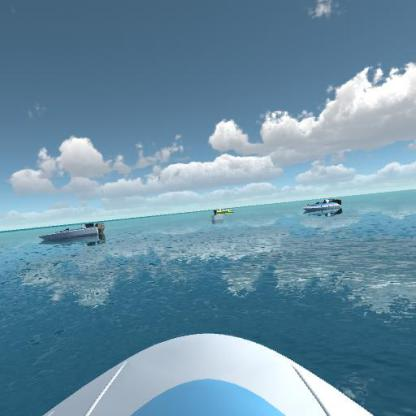usv1: (36, 220, 113, 246), (297, 193, 349, 219)
usv2: (210, 205, 239, 218)
